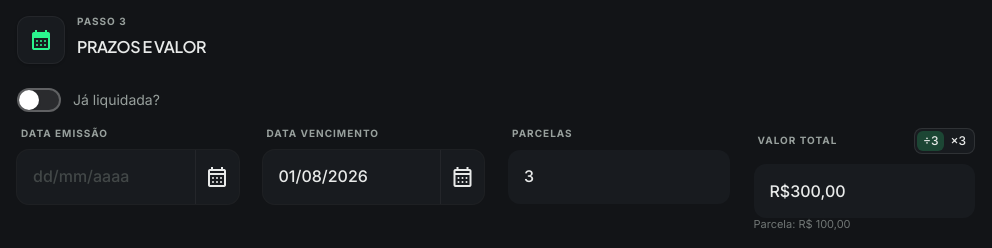
Scenario: TermsValueSection › shows "Total:" annotation in parcela mode
The image size is (992, 248).
Click the button titled "Parcela × 3x". click: (958, 141)
box: [944,131,972,151]
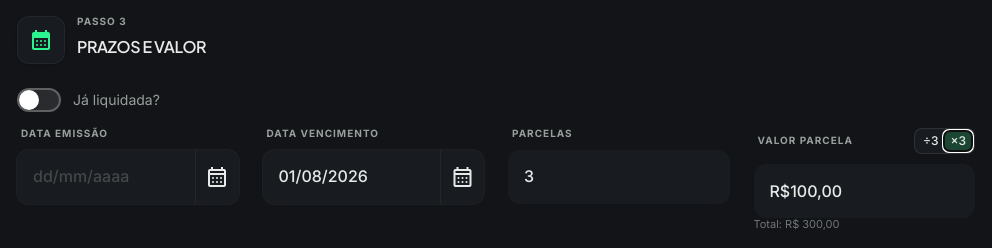
Now the text "Total: R$ 300,00" is shown, box [754,217,840,231]
